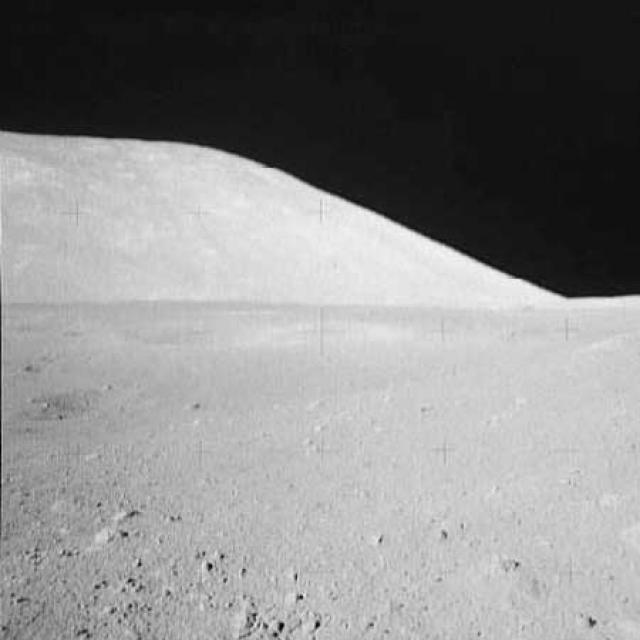crater: (124, 314, 363, 345), (31, 391, 102, 421)
